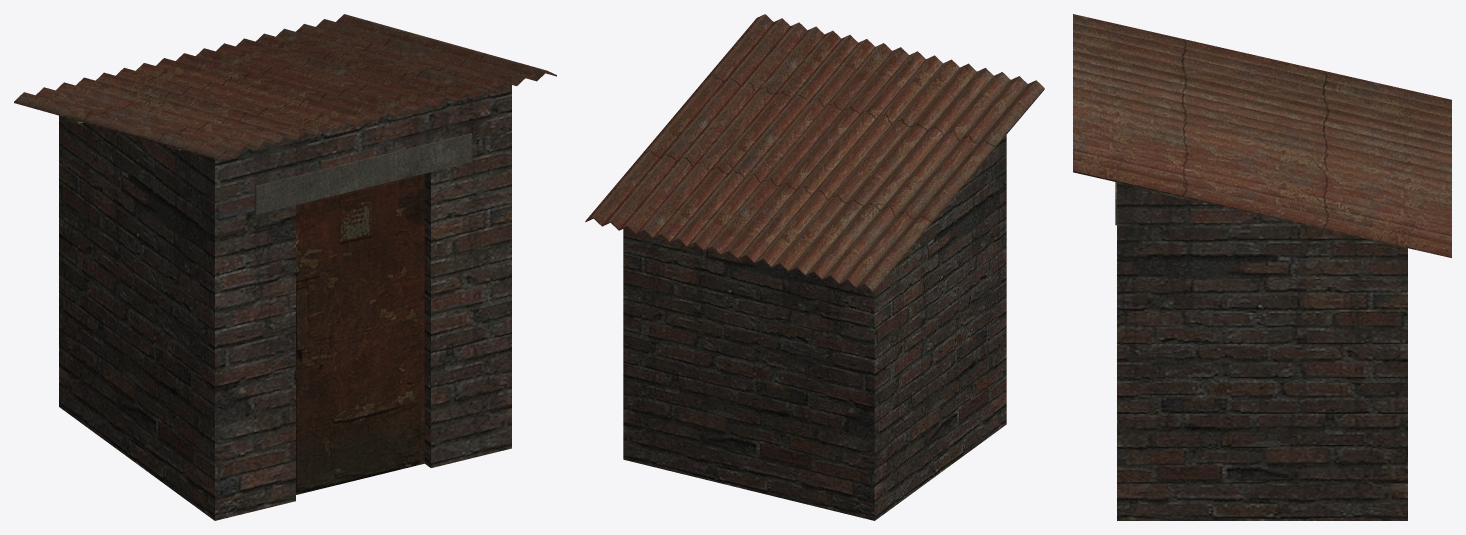
Rendered from shed_ax_1.obj.
3 views of the same model, side by side, from view 1: azimuth 30°, elevation 25°; view 2: azimuth 150°, elevation 25°; view 3: azimuth 270°, elevation 25° (orthographic). The views are drawn at different scales.
Visible parts, largest first — view 1: shed_ax_1, door_hr_7; view 2: shed_ax_1; view 3: shed_ax_1.
Boxes of the visible parts, bbox=[...] form: shed_ax_1: bbox=[14, 14, 556, 520]; door_hr_7: bbox=[296, 174, 424, 494]; shed_ax_1: bbox=[585, 14, 1044, 520]; shed_ax_1: bbox=[1073, 14, 1451, 520].
Bounding box in the file's own units: 2.52 × 2.77 × 2.6.
